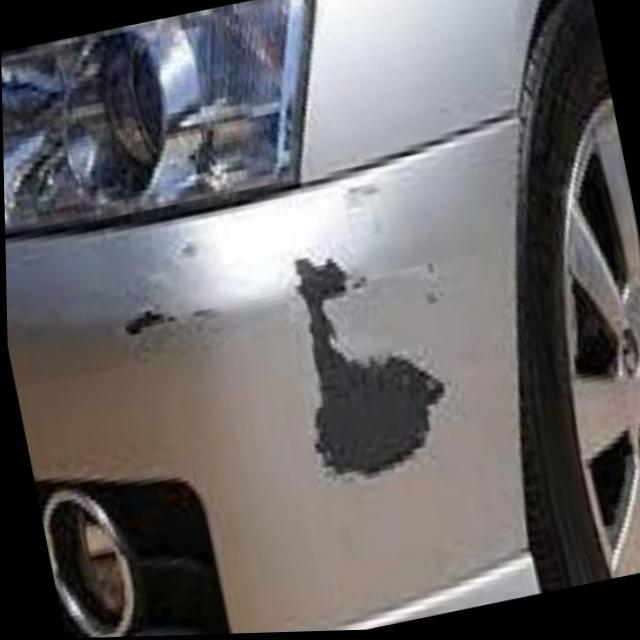crack: (286, 252, 441, 489), (117, 297, 213, 348)
